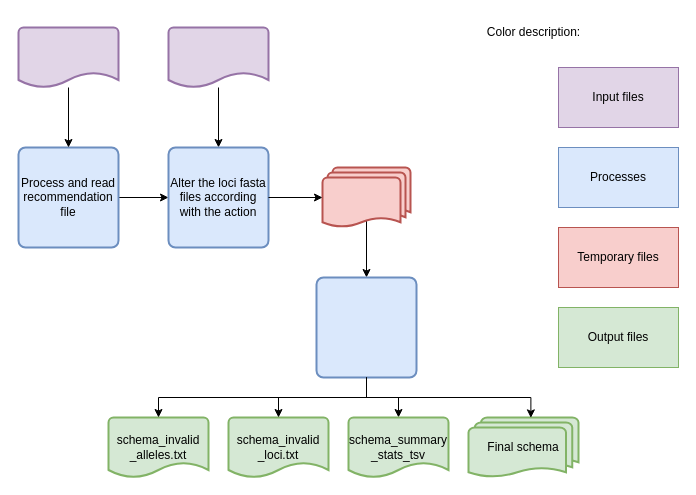
The diagram is 696 pixels wide and 495 high, and some of its shapes have lost their labels. The centre of each missing label's shape, as x and y in pixels:
"recommendation s _file.tsv" goes at (68,57).
"Run AdaptLoci to restructure altered schema" goes at (366,327).
"Schema" goes at (218,57).
"temp_fastas" goes at (366,197).
